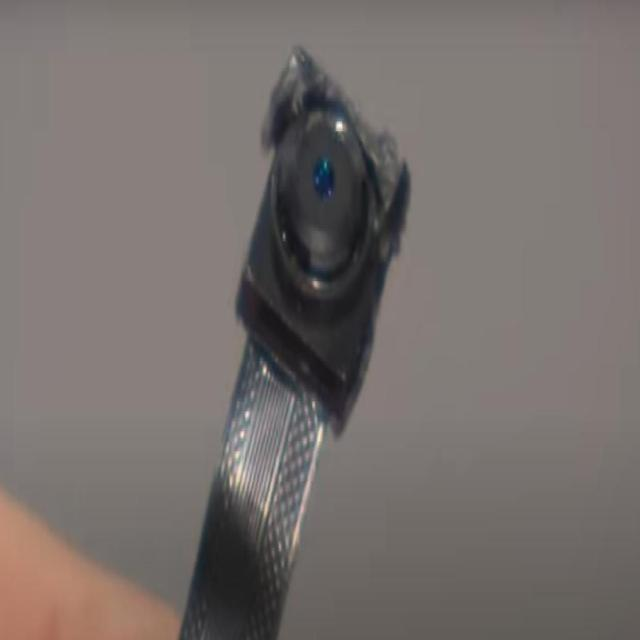hidden camera: (312, 151, 337, 204)
